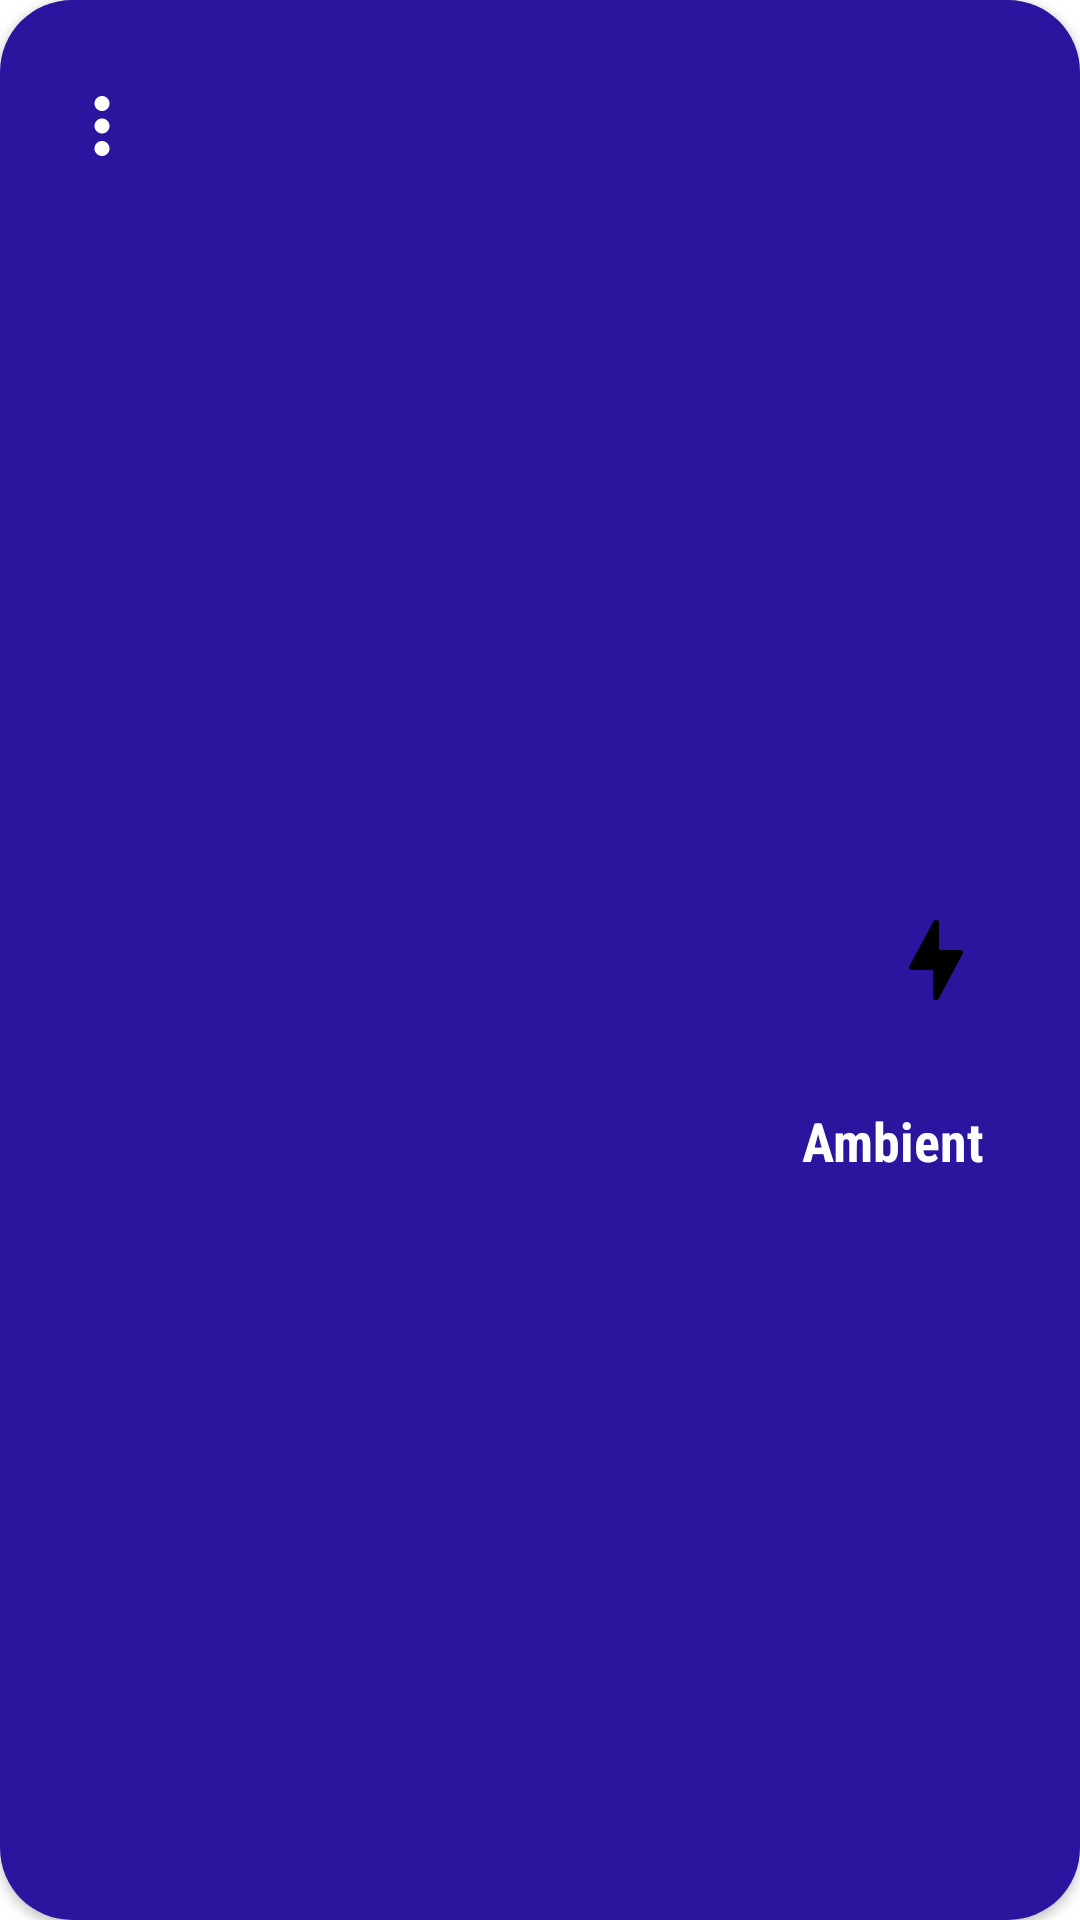

Screen size 1080 × 1920. Icon name, then its box in pixels as (left=x1, top=y1, right=x2, bottom=y2):
menu: (left=94, top=96, right=110, bottom=156)
thunder: (left=909, top=920, right=963, bottom=1000)
